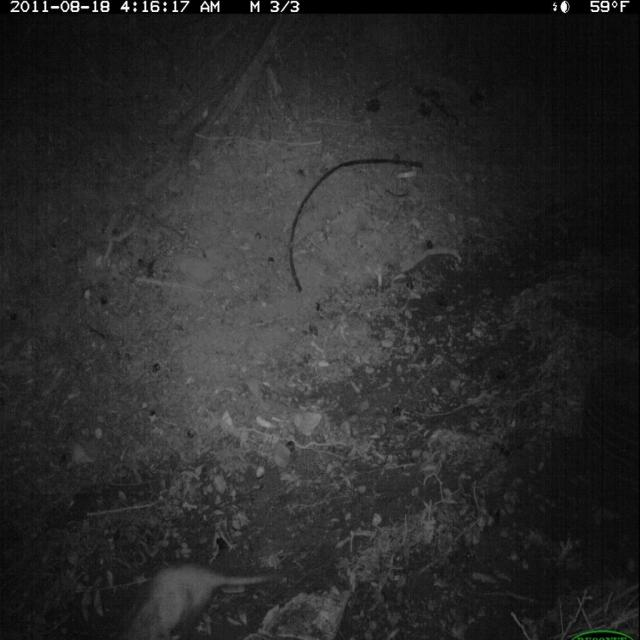opossum: (116, 554, 290, 640)
